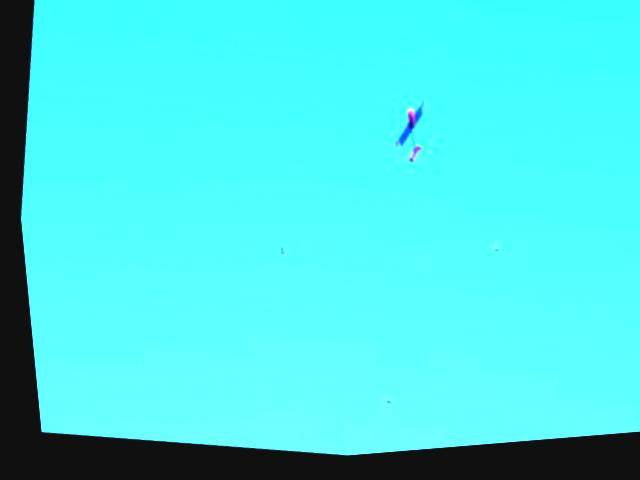uav: (373, 92, 442, 182)
